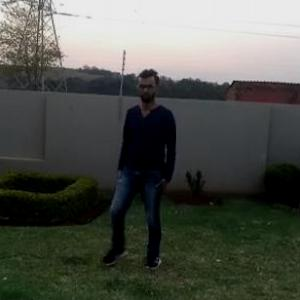follow: (121, 69, 187, 272)
